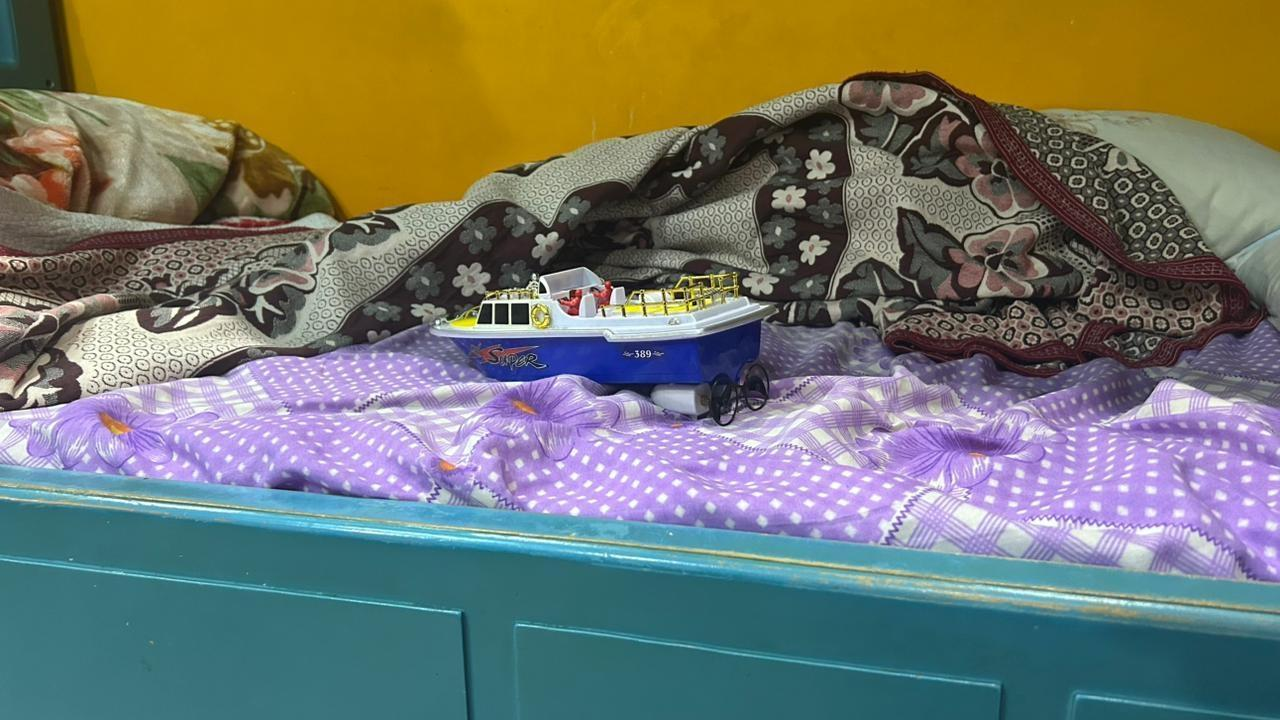Boat: (420, 264, 802, 431)
